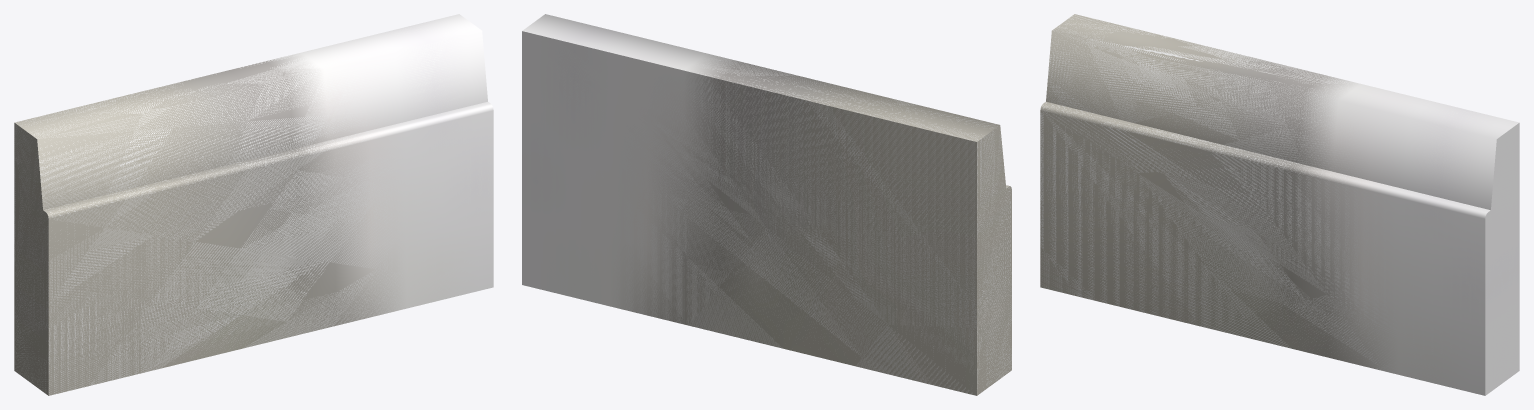
The model's file is original-44.obj.
3 renders of one model, left to right at view 1: azimuth 30°, elevation 25°; view 2: azimuth 150°, elevation 25°; view 3: azimuth 330°, elevation 25°, orthographic. The views are drawn at different scales.
Visible parts, largest first — view 1: DF_31_B1/DF_31_B/mesh23/mesh23-geometry#mesh23-geometry; view 2: DF_31_B1/DF_31_B/mesh23/mesh23-geometry#mesh23-geometry; view 3: DF_31_B1/DF_31_B/mesh23/mesh23-geometry#mesh23-geometry.
Part boxes in pixels (x1=…): DF_31_B1/DF_31_B/mesh23/mesh23-geometry#mesh23-geometry: x1=14, y1=14, x2=493, y2=395; DF_31_B1/DF_31_B/mesh23/mesh23-geometry#mesh23-geometry: x1=522, y1=14, x2=1011, y2=395; DF_31_B1/DF_31_B/mesh23/mesh23-geometry#mesh23-geometry: x1=1040, y1=14, x2=1519, y2=395.
Size of the model in its own units: 0.2593 by 0.1383 by 0.0346.
